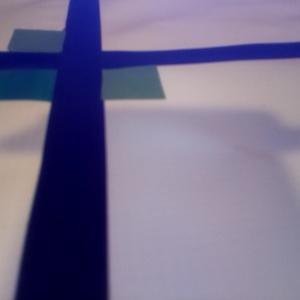bottom_left: (1, 52, 101, 100)
bottom_right: (56, 52, 165, 99)
top_left: (8, 28, 99, 69)
